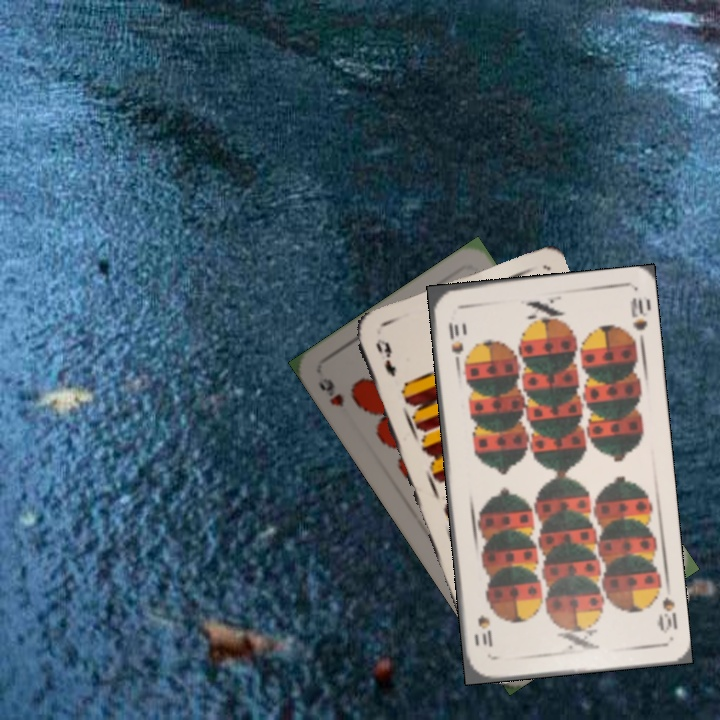E9: (371, 334, 399, 380)
H9: (314, 374, 347, 410)
S10: (653, 579, 680, 636), (444, 318, 466, 368)
